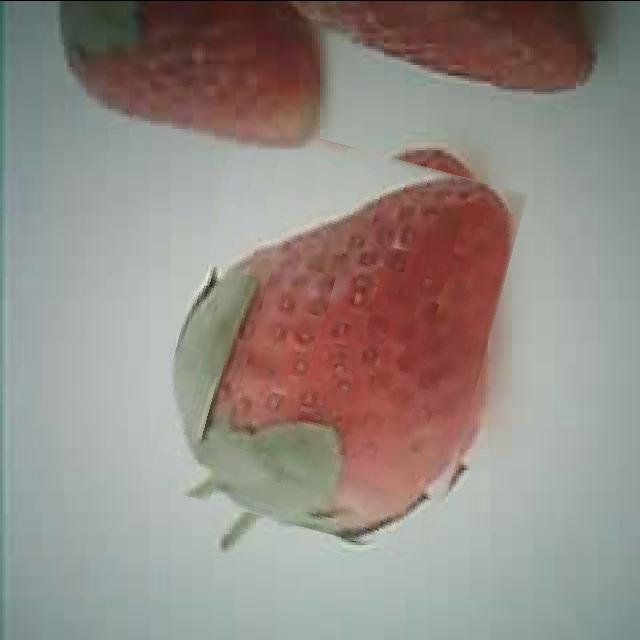strawberry: (162, 132, 506, 544), (60, 0, 318, 152)
